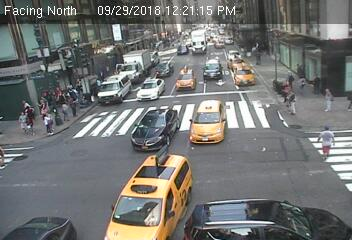car: (104, 155, 193, 240), (183, 197, 352, 238), (132, 108, 180, 150), (1, 216, 80, 240), (189, 100, 228, 144), (118, 50, 151, 83), (96, 74, 132, 102), (136, 77, 165, 100), (233, 62, 255, 87), (175, 65, 196, 90), (202, 58, 224, 81), (191, 29, 207, 55), (157, 61, 174, 78), (226, 49, 241, 62), (178, 45, 190, 56), (225, 36, 235, 46), (215, 39, 224, 49)
